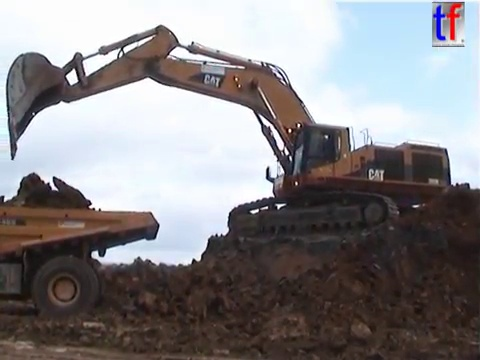excavator: (3, 21, 473, 244)
truck: (1, 198, 164, 325)
